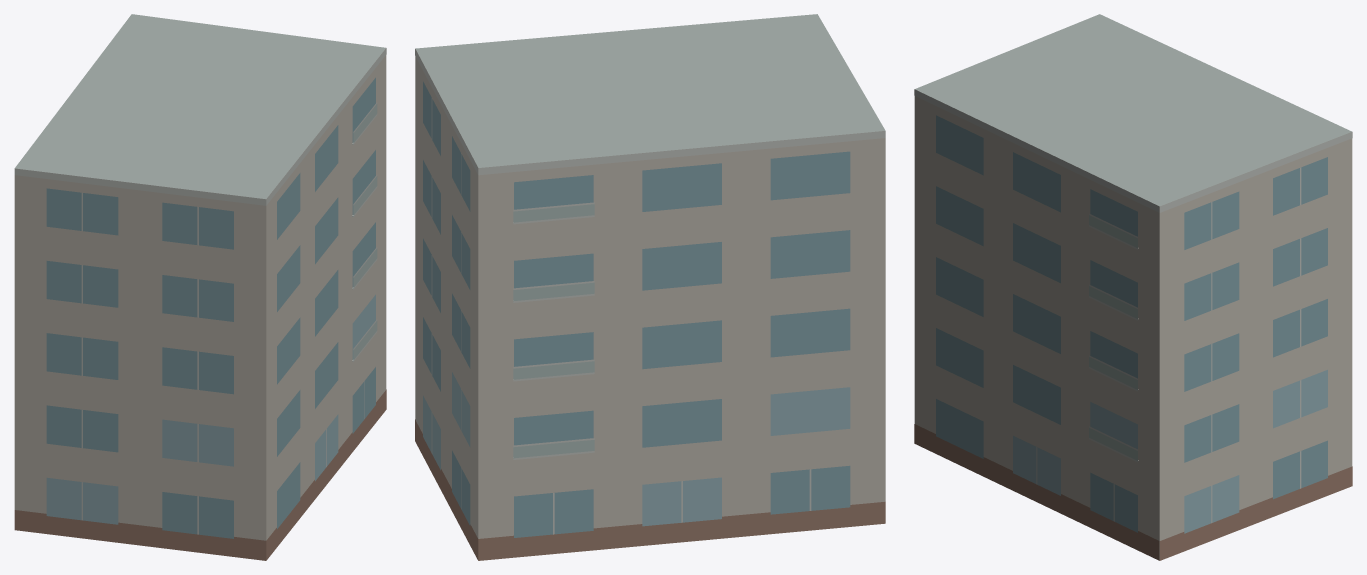
Rendered from survey-upis-32638750.glb.
3 renders of one model, left to right at view 1: azimuth 30°, elevation 25°; view 2: azimuth 150°, elevation 25°; view 3: azimuth 270°, elevation 25°, orthographic. The views are drawn at different scales.
Visible parts, largest first — view 1: survey-upis-32638750.tmp; view 2: survey-upis-32638750.tmp; view 3: survey-upis-32638750.tmp.
Boxes of the visible parts, box(x1,y1,x2,y2) form: survey-upis-32638750.tmp: box(14, 14, 386, 560); survey-upis-32638750.tmp: box(415, 14, 885, 560); survey-upis-32638750.tmp: box(914, 14, 1352, 560).
Size of the model in its own units: 15.5 by 13.3 by 14.9.
